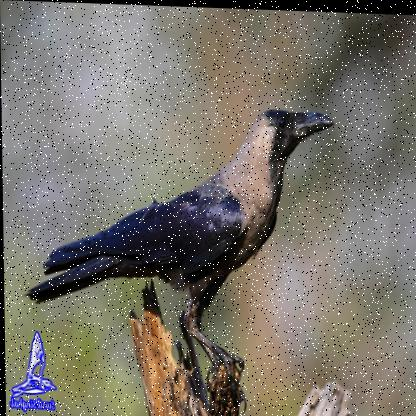Burung: (21, 98, 337, 414)
